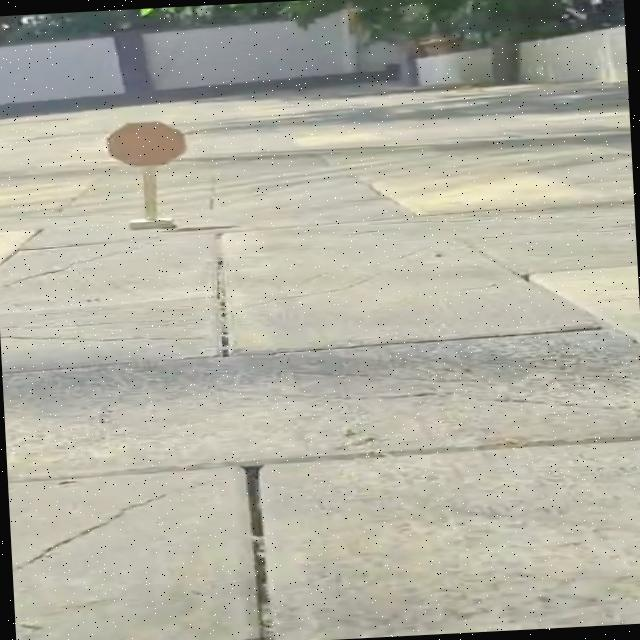Stop: (86, 106, 208, 180)
